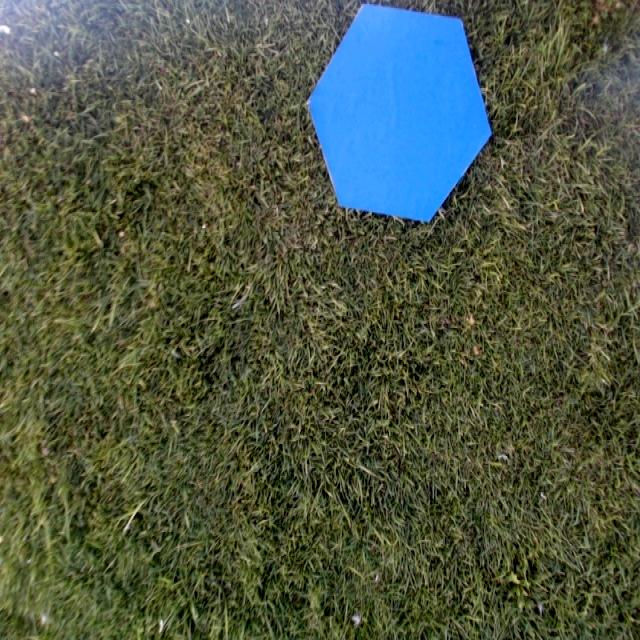blue_hexagon: (304, 3, 493, 225)
